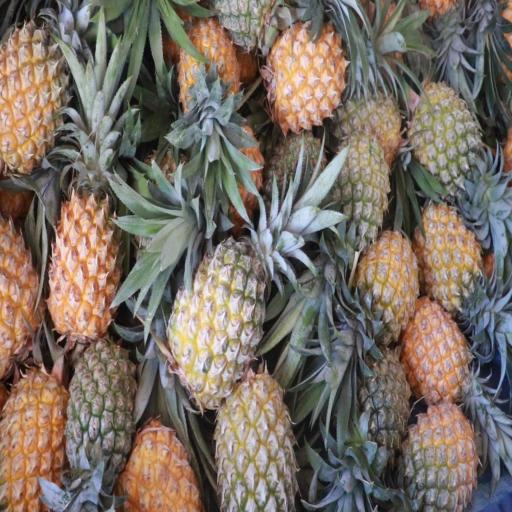------------------------------: (171, 242, 266, 402), (217, 381, 295, 512)
Pineapple - v8 v1: (49, 192, 120, 345), (0, 367, 67, 512), (0, 28, 68, 168), (273, 30, 350, 129), (415, 203, 480, 312), (123, 420, 200, 512), (0, 214, 44, 367), (410, 300, 475, 403), (358, 230, 418, 337), (178, 21, 238, 117)
